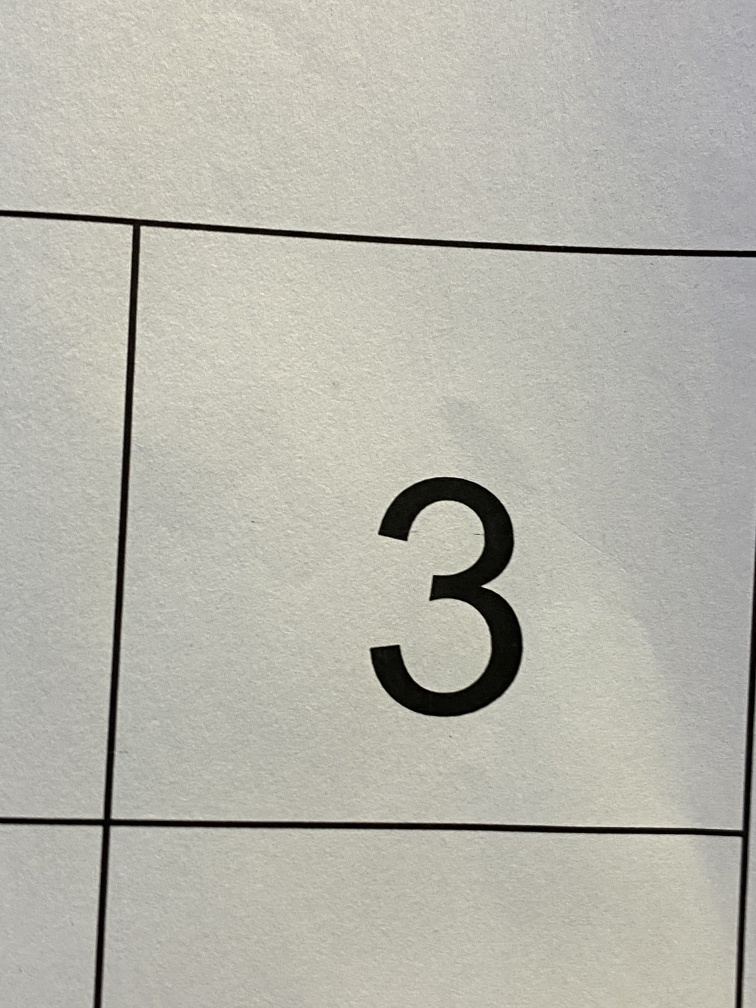three: (318, 410, 585, 795)
